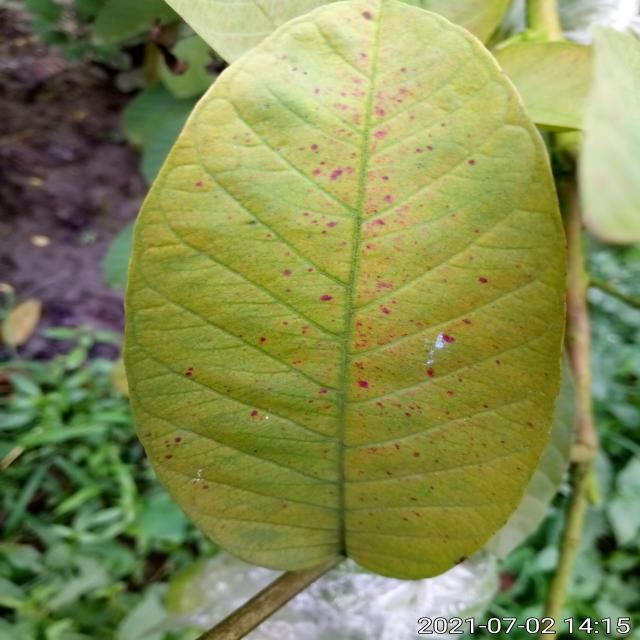Red Rust: (125, 0, 565, 579)
